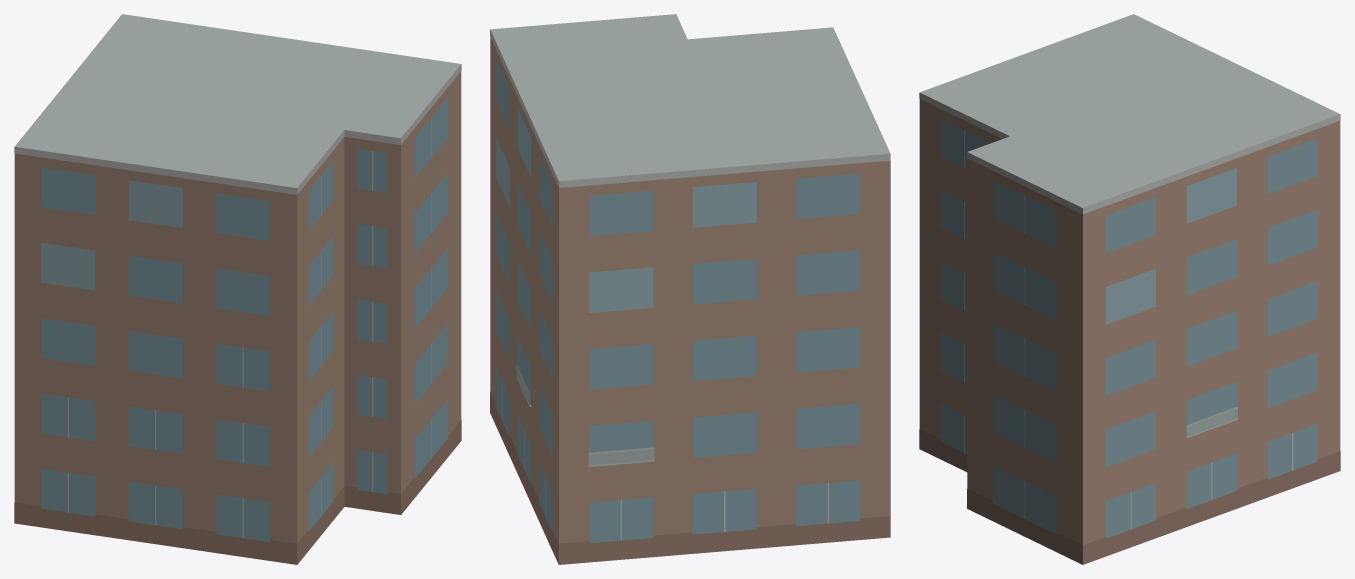
File: survey-upis-32893252.glb
3 views of the same model, side by side, from view 1: azimuth 30°, elevation 25°; view 2: azimuth 150°, elevation 25°; view 3: azimuth 270°, elevation 25° (orthographic). The views are drawn at different scales.
Parts seen in each view (by area): view 1: survey-upis-32893252.tmp; view 2: survey-upis-32893252.tmp; view 3: survey-upis-32893252.tmp.
Part boxes in pixels (left/top/right/bottom): survey-upis-32893252.tmp: left=14, top=14, right=461, bottom=564; survey-upis-32893252.tmp: left=490, top=14, right=890, bottom=564; survey-upis-32893252.tmp: left=919, top=14, right=1340, bottom=564.
Bounding box in the file's own units: 16 × 13.7 × 14.66.
